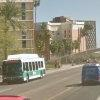Bus: (4, 46, 48, 83)
